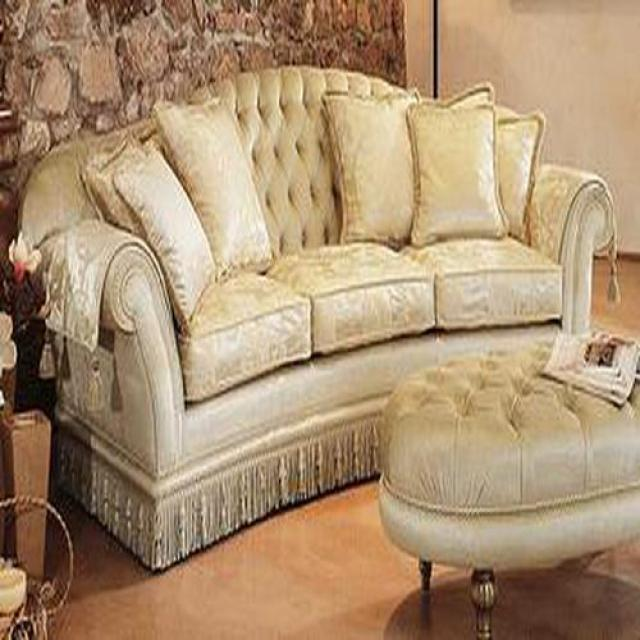sofa: (10, 67, 635, 575)
